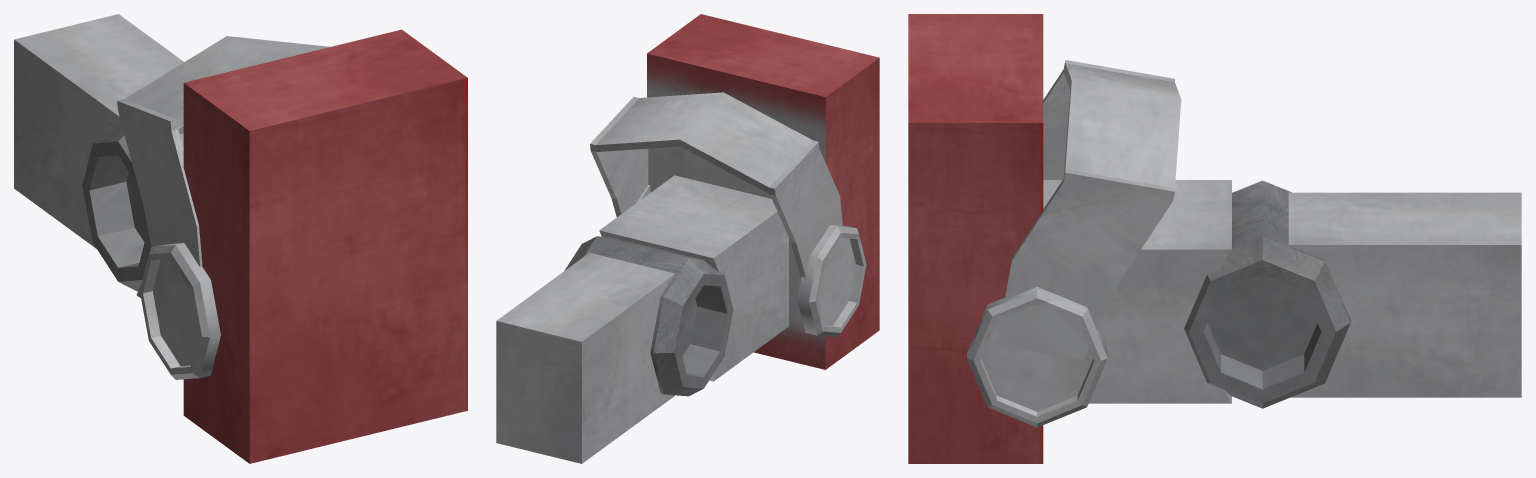
The model's file is Leg-Right.FBX.
3 views of the same model, side by side, from view 1: azimuth 30°, elevation 25°; view 2: azimuth 150°, elevation 25°; view 3: azimuth 270°, elevation 25° (orthographic). The views are drawn at different scales.
Parts seen in each view (by area): view 1: Object008; view 2: Object008; view 3: Object008.
Boxes of the visible parts, <box> form: Object008: <box>14,14,467,463</box>; Object008: <box>496,14,879,463</box>; Object008: <box>908,14,1521,463</box>.
Size of the model in its own units: 3.44 by 4.4 by 7.17.
